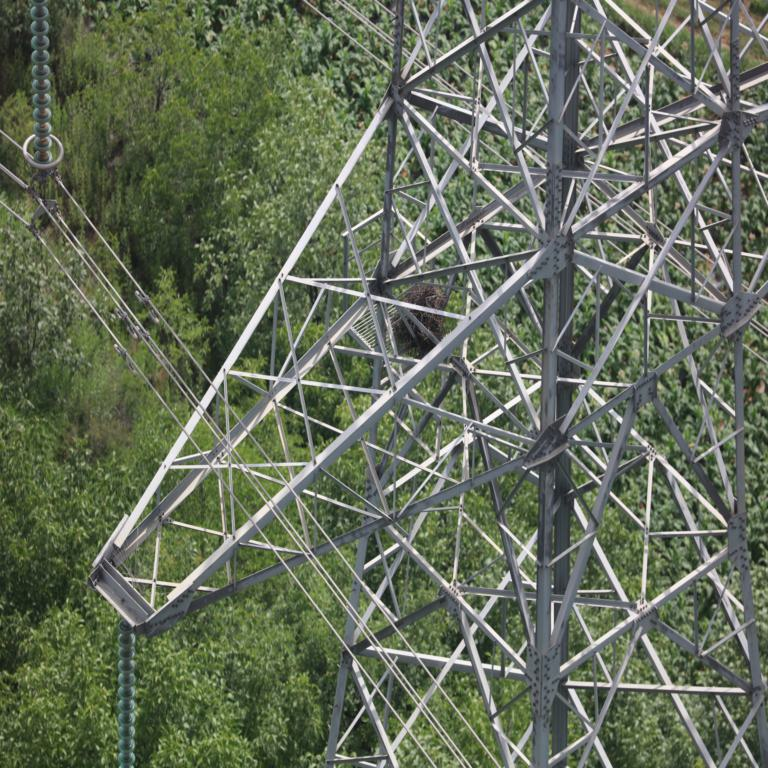nest: (396, 284, 441, 355)
